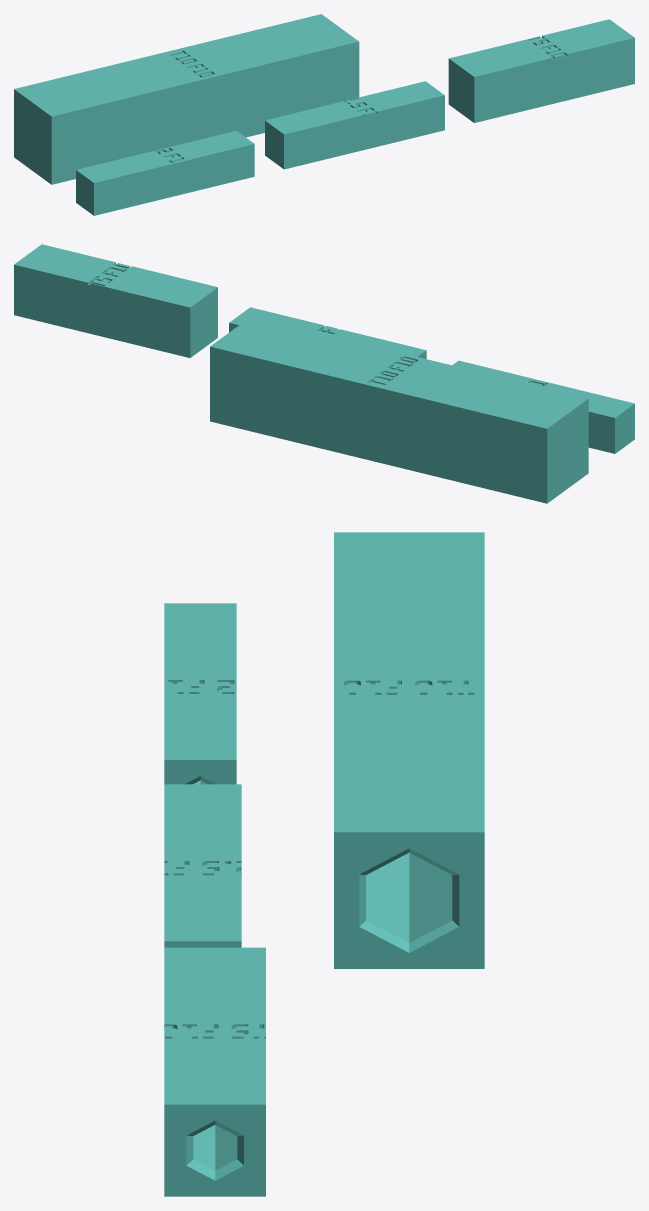
Rendered from coupon.glb.
3 renders of one model, top to bottom at view 1: azimuth 30°, elevation 25°; view 2: azimuth 150°, elevation 25°; view 3: azimuth 270°, elevation 25°, orthographic. The views are drawn at different scales.
Visible parts, largest first — view 1: 40 mm minimum shaft guide coupon; view 2: 40 mm minimum shaft guide coupon; view 3: 40 mm minimum shaft guide coupon.
Boxes of the visible parts, x1,y1,x2,y2 form: 40 mm minimum shaft guide coupon: [14, 14, 634, 215]; 40 mm minimum shaft guide coupon: [14, 244, 634, 503]; 40 mm minimum shaft guide coupon: [164, 532, 484, 1196].
Bounding box in the file's own units: 0.1474 × 0.0178 × 0.0378.
